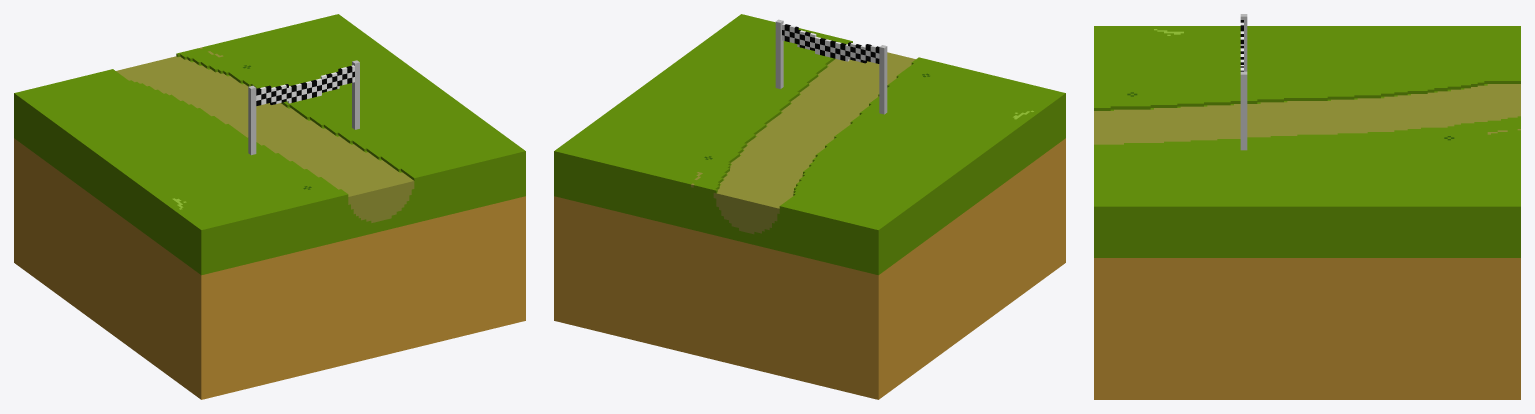
3 renders of one model, left to right at view 1: azimuth 30°, elevation 25°; view 2: azimuth 150°, elevation 25°; view 3: azimuth 270°, elevation 25°, orthographic. The views are drawn at different scales.
Visible parts, largest first — view 1: 10F; view 2: 10F; view 3: 10F.
Boxes of the visible parts, x1,y1,x2,y2 form: 10F: [14, 14, 525, 399]; 10F: [554, 14, 1065, 399]; 10F: [1094, 14, 1520, 399].
Size of the model in its own units: 12.8 by 8.9 by 12.8.
Materials: 1 (1 with a texture image).
